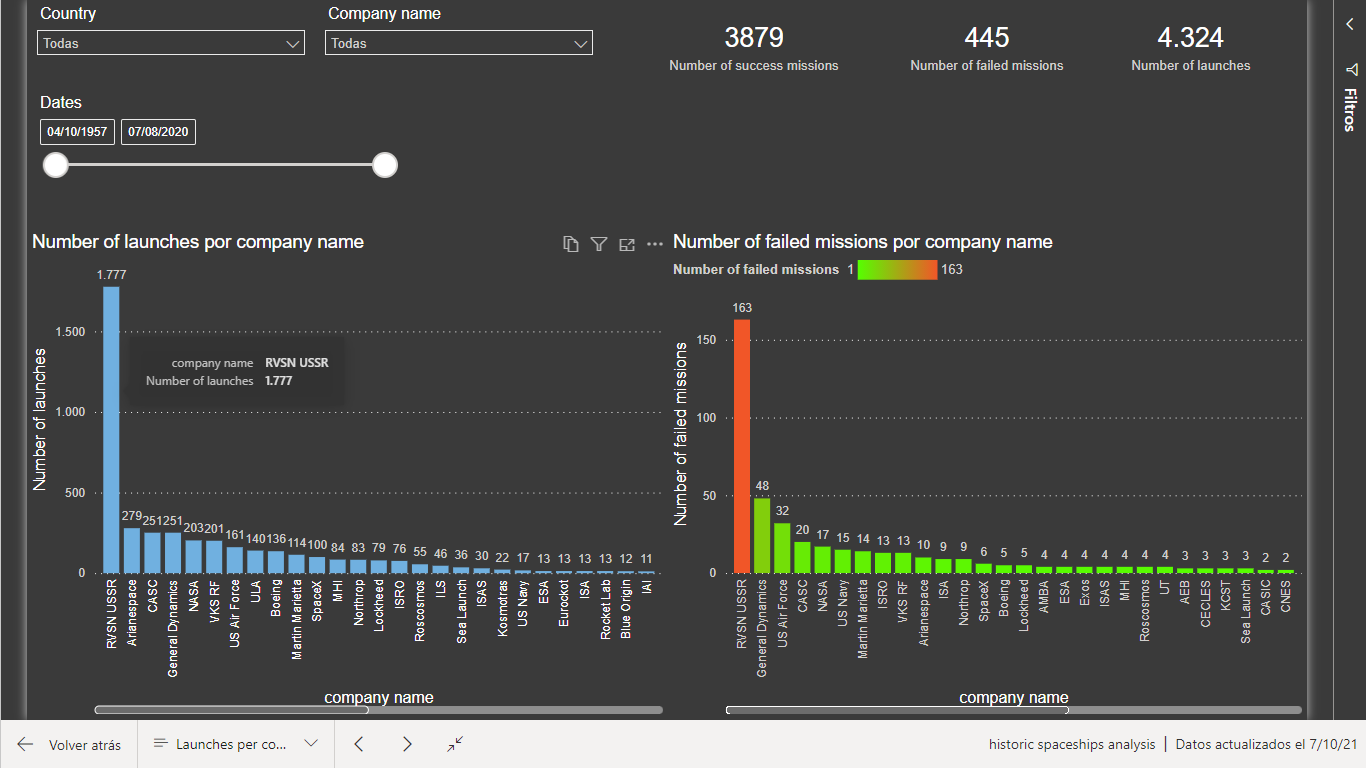

This screenshot's page, from the dashboard's own definition file:
{"tool":"powerbi","page":{"name":"Launches per company.","canvas":[1280,720],"ordinal":1},"visuals":[{"type":"card","fields":{"Values":["_Measures._Number of Launches"]},"box":[977,0,231.5,89.5],"z":0},{"type":"clusteredColumnChart","fields":{"Category":["ships_data_clean.company name"],"Y":["_Measures._Number of Launches"]},"box":[0,231.2,640.5,488.5],"z":1000},{"type":"clusteredColumnChart","fields":{"Category":["ships_data_clean.company name"],"Y":["_Measures._Number of failed missions"]},"box":[640.5,231.2,639.5,488.5],"z":2000},{"type":"card","fields":{"Values":["_Measures._Number of failed missions"]},"box":[782.5,0,232.9,89.5],"z":3000},{"type":"card","fields":{"Values":["_Measures._Number of successed missions"]},"box":[589.3,0,232.9,89.5],"z":4000},{"type":"slicer","fields":{"Values":["ships_data_clean.company name"]},"box":[288.5,0,288.5,89.6],"z":5000},{"type":"slicer","fields":{"Values":["ships_data_clean.country"]},"box":[0,0,288.5,89.6],"z":6000},{"type":"slicer","fields":{"Values":["ships_data_clean.dates"]},"box":[0,89.4,378.8,235.1],"z":7000},{"type":"image","box":[1204.3,0,75.3,117.9],"z":7001}]}

Visuals, with their boxes on the page's 1280x720 design canvas (x1, y1, x2, y2). These are canvas units, not pixel positions in the 1366x768 screenshot, which may show the page scaled, cropped or inside an application window:
card - _Measures._Number of Launches: 977 0 1208 90
clusteredColumnChart - ships_data_clean.company name x _Measures._Number of Launches: 0 231 640 720
clusteredColumnChart - ships_data_clean.company name x _Measures._Number of failed missions: 640 231 1280 720
card - _Measures._Number of failed missions: 782 0 1015 90
card - _Measures._Number of successed missions: 589 0 822 90
slicer - ships_data_clean.company name: 288 0 577 90
slicer - ships_data_clean.country: 0 0 288 90
slicer - ships_data_clean.dates: 0 89 379 324
image: 1204 0 1280 118
